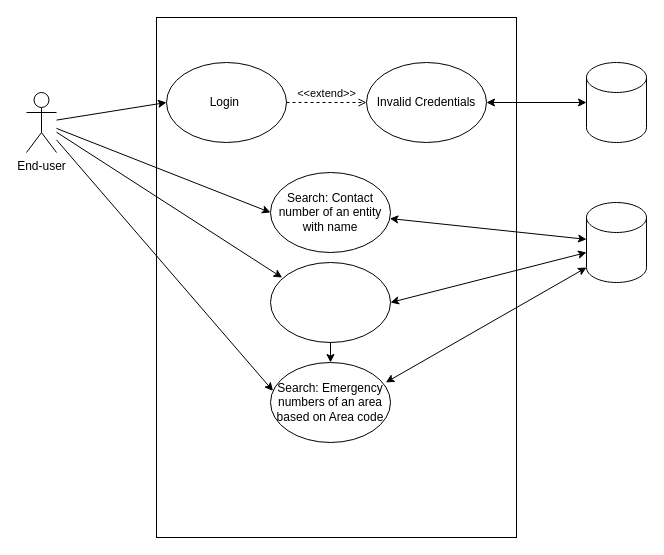
This 664x555 diagram has some shape labels left out. Here are the shapes that lost their labels. From the top down, the centre of each, then its label:
(x=616, y=102): Identity Service
(x=616, y=242): Database
(x=330, y=302): Search: Area code
